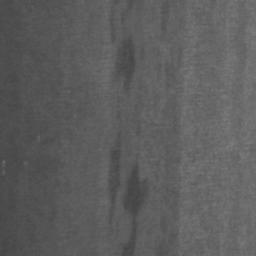Inclusion: (122, 163, 151, 256), (111, 36, 136, 88), (108, 150, 120, 207)
